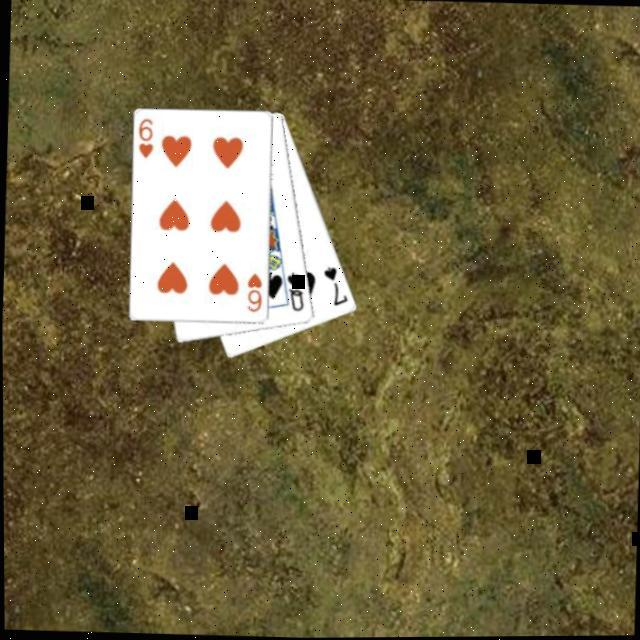6H: (242, 268, 264, 314), (133, 114, 155, 160)
7S: (317, 262, 350, 308)
QS: (281, 268, 307, 314)
